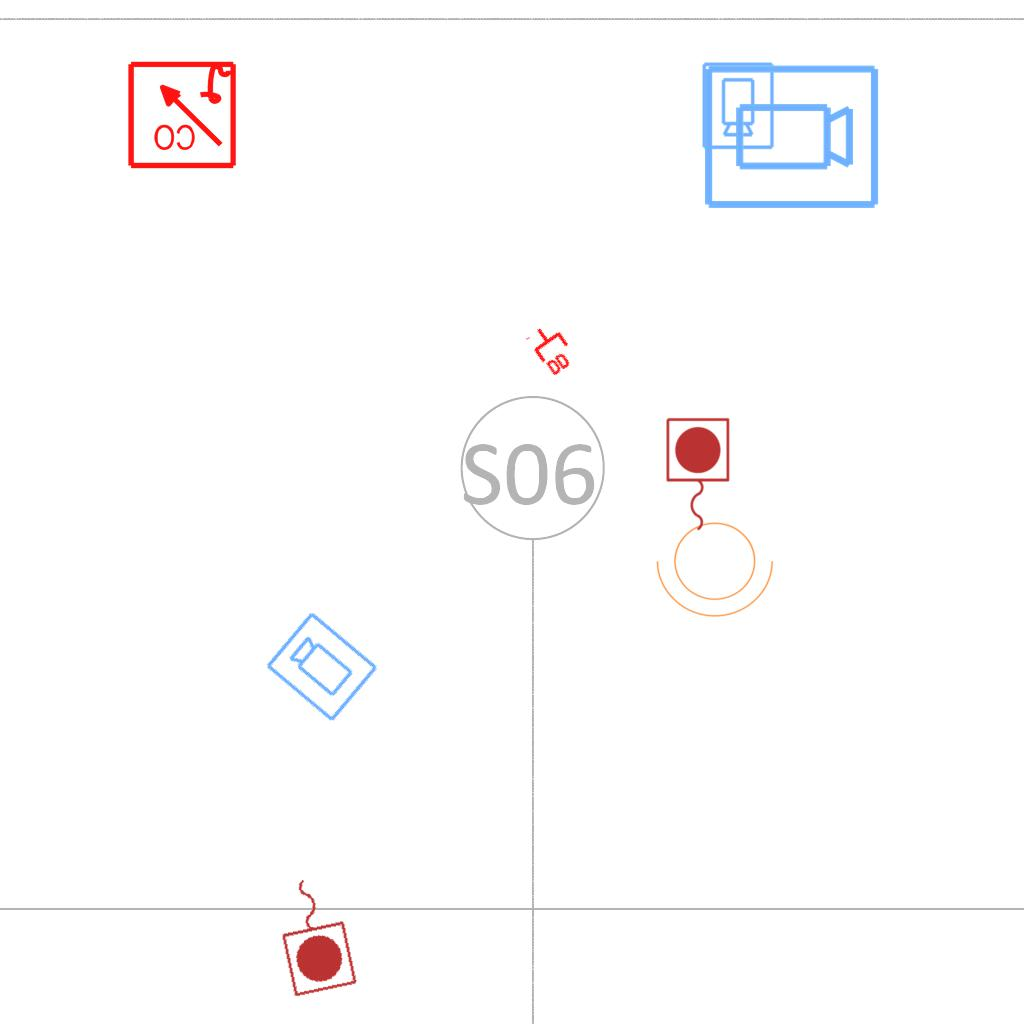Datenanschluss_zweifach: (524, 317, 582, 380)
KFO_Kamera_mit_Festobjektiv: (700, 61, 882, 215), (262, 607, 383, 726), (699, 60, 776, 151)
ROA_Rauchmelder_optisch_mit_Signalgeber_(Sockelsirene): (125, 57, 238, 170)
Scheinwerfer_fuer_Alarmbeleuchtung: (652, 510, 784, 622)
Zugtaster: (267, 866, 363, 1002), (661, 414, 733, 536)
